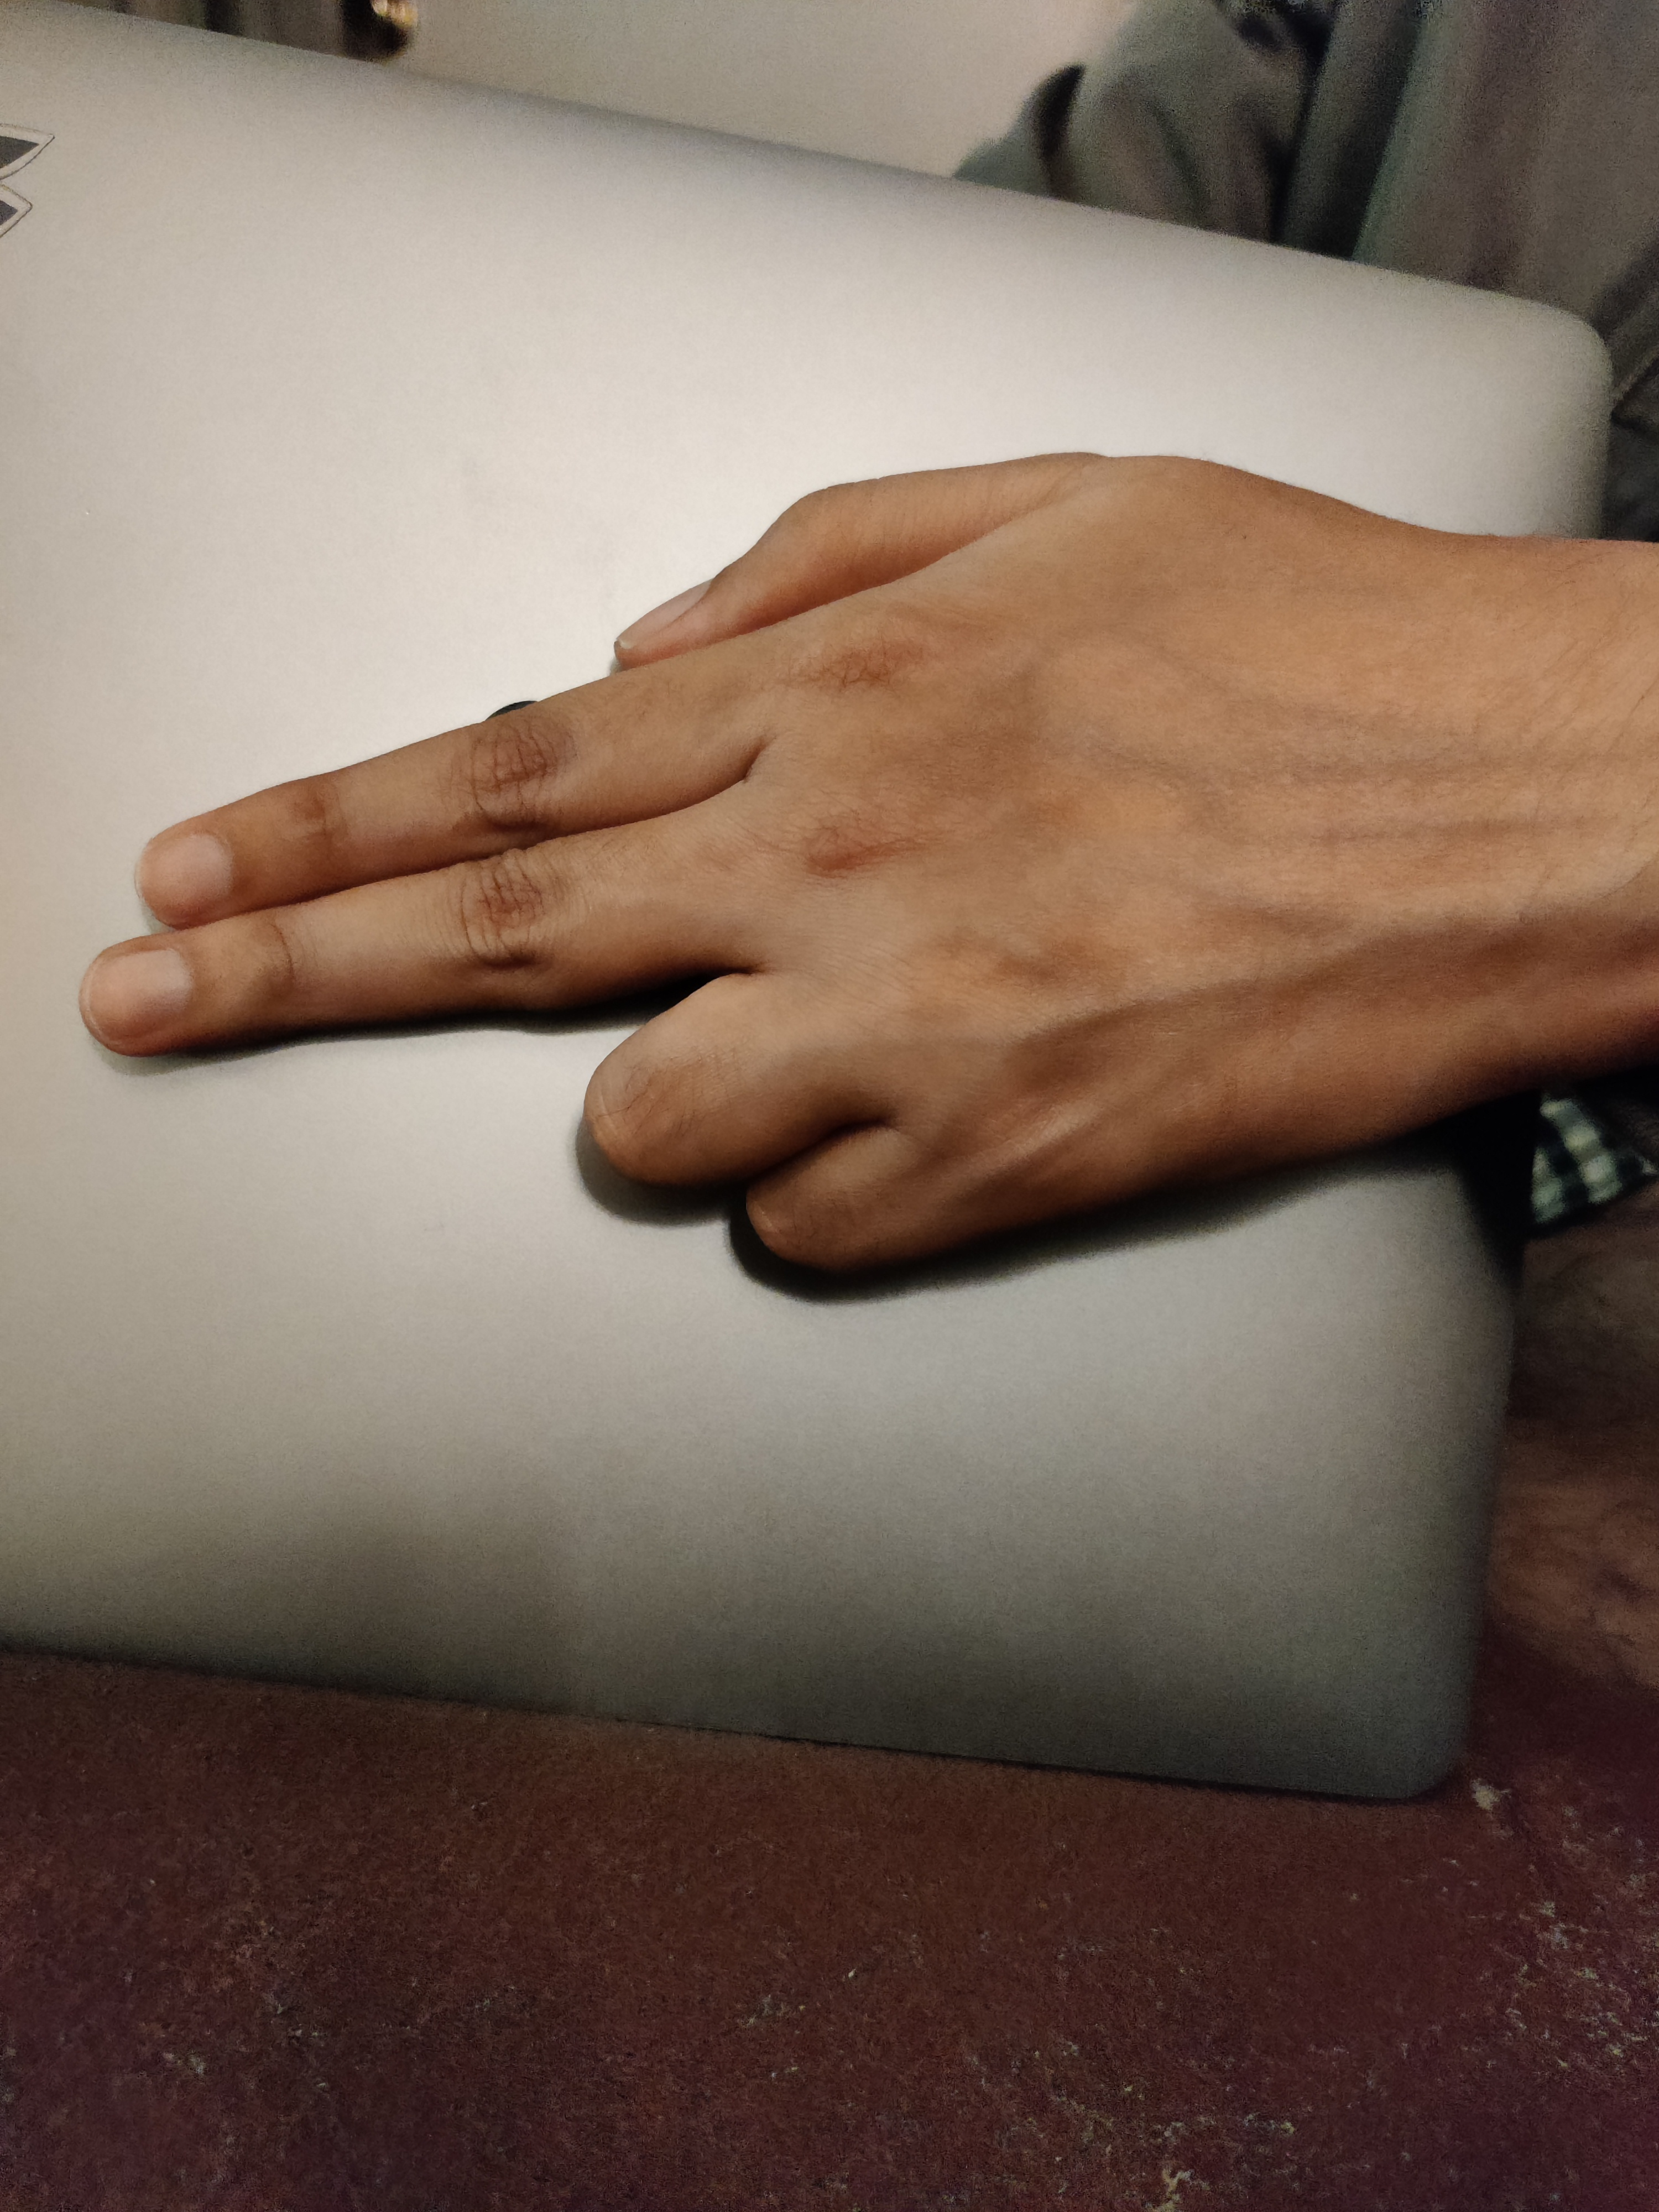right: (42, 317, 1612, 1496)
